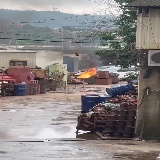fire: (77, 68, 96, 78)
